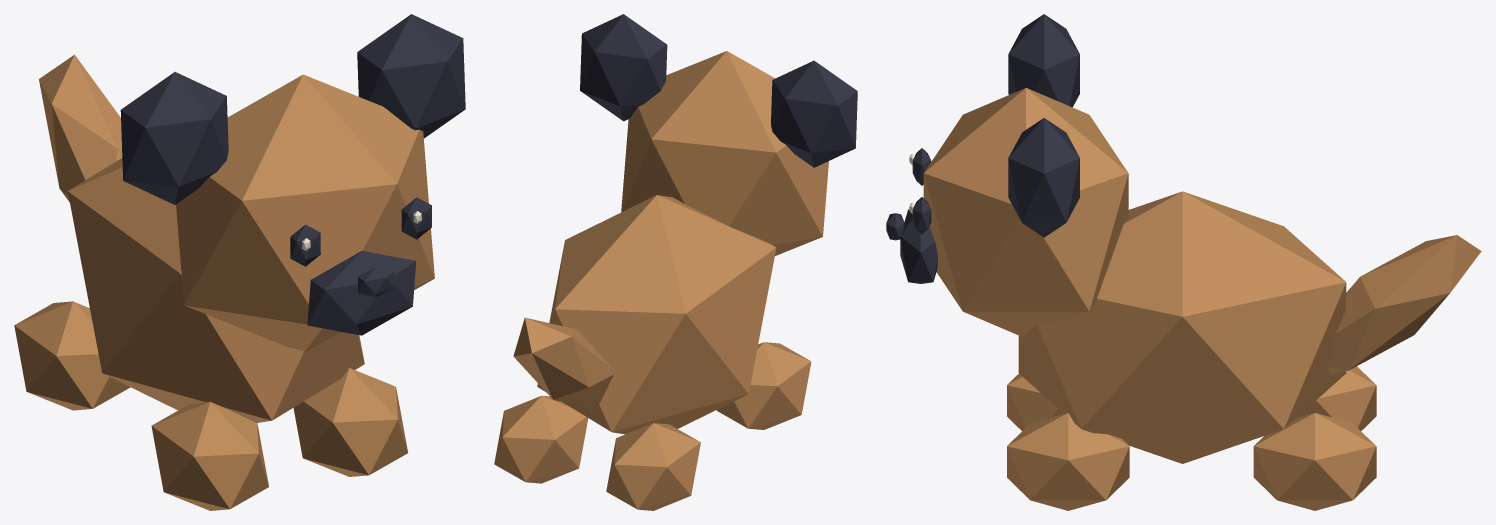
Rendered from pet_pug.glb.
The picture shows the model from 3 angles, left to right: view 1: azimuth 30°, elevation 25°; view 2: azimuth 150°, elevation 25°; view 3: azimuth 270°, elevation 25°; orthographic projection. The views are drawn at different scales.
Visible parts, largest first — view 1: head, body, ear, paw, ear.001, paw.001, back_paw, tail_bob, muzzle, eye.001, eye, nose; view 2: body, head, ear, ear.001, back_paw, back_paw.001, tail_bob, paw; view 3: body, head, tail_bob, back_paw.001, paw.001, ear.001, ear, back_paw, muzzle, paw.
Boxes of the visible parts, bbox=[...] form: head: bbox=[176, 74, 434, 351]; body: bbox=[67, 158, 364, 422]; ear: bbox=[120, 72, 228, 204]; paw: bbox=[151, 402, 268, 510]; ear.001: bbox=[357, 14, 465, 138]; paw.001: bbox=[293, 368, 407, 476]; back_paw: bbox=[14, 301, 130, 410]; tail_bob: bbox=[39, 54, 122, 202]; muzzle: bbox=[307, 251, 416, 335]; eye.001: bbox=[401, 197, 431, 239]; eye: bbox=[290, 224, 320, 266]; nose: bbox=[357, 267, 393, 297]; body: bbox=[537, 195, 776, 434]; head: bbox=[621, 51, 828, 255]; ear: bbox=[771, 60, 857, 167]; ear.001: bbox=[580, 14, 667, 121]; back_paw: bbox=[606, 423, 700, 510]; back_paw.001: bbox=[494, 395, 588, 483]; tail_bob: bbox=[513, 317, 613, 408]; paw: bbox=[716, 342, 811, 429]; body: bbox=[1018, 191, 1346, 463]; head: bbox=[923, 88, 1128, 336]; tail_bob: bbox=[1327, 235, 1481, 373]; back_paw.001: bbox=[1253, 413, 1376, 510]; paw.001: bbox=[1007, 413, 1129, 510]; ear.001: bbox=[1008, 118, 1079, 237]; ear: bbox=[1008, 14, 1079, 107]; back_paw: bbox=[1297, 366, 1376, 430]; muzzle: bbox=[900, 209, 937, 283]; paw: bbox=[1007, 374, 1063, 430].
Bounding box in the file's own units: 0.5869 × 0.76 × 0.9891.
